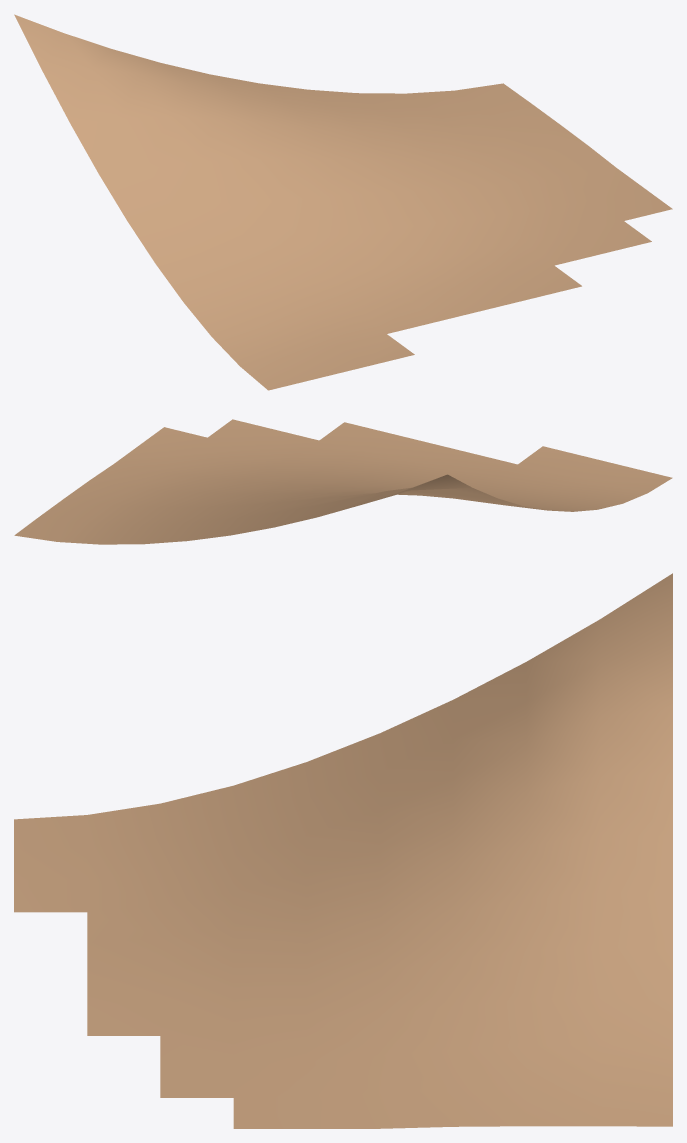
The model's file is sand_corner.glb.
The picture shows the model from 3 angles, top to bottom: view 1: azimuth 30°, elevation 25°; view 2: azimuth 150°, elevation 25°; view 3: azimuth 270°, elevation 25°; orthographic projection. The views are drawn at different scales.
Parts seen in each view (by area): view 1: sand_corner; view 2: sand_corner; view 3: sand_corner.
Boxes of the visible parts, x1,y1,x2,y2 form: sand_corner: (14,14,672,390); sand_corner: (14,419,672,544); sand_corner: (14,573,672,1128).
Bounding box in the file's own units: 1.9 × 0.705 × 1.71.
